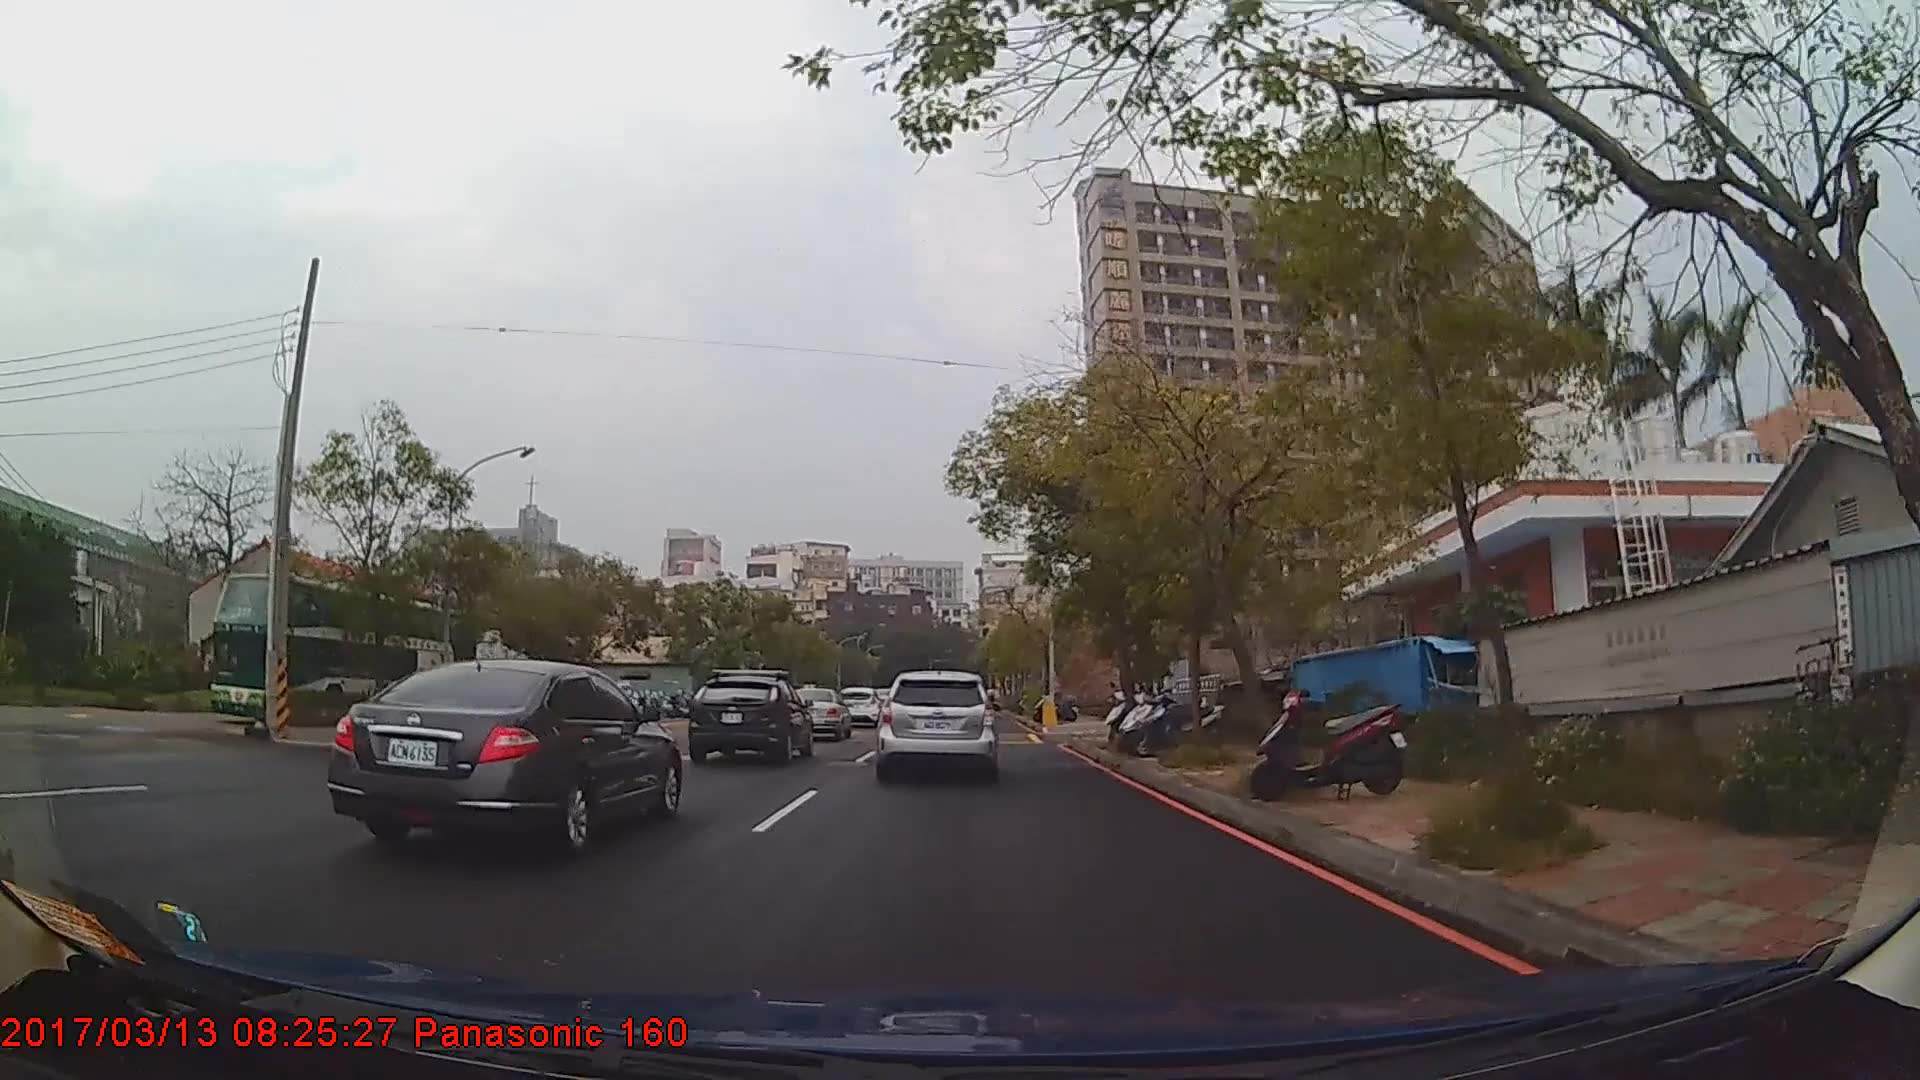vehicle: (326, 658, 680, 852), (204, 574, 448, 735), (877, 667, 997, 779), (686, 669, 812, 765), (789, 684, 851, 738), (836, 684, 882, 727)
